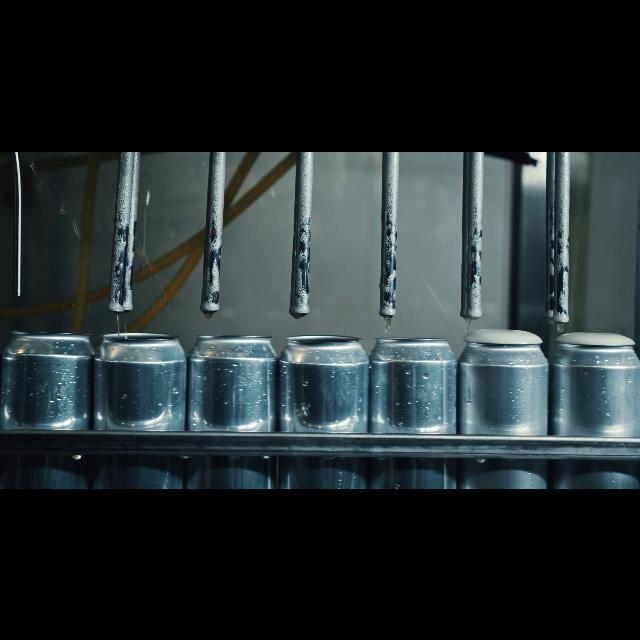empty: (2, 326, 94, 488), (99, 324, 185, 488), (191, 332, 277, 488), (372, 332, 458, 488), (284, 328, 366, 488)
full: (552, 322, 640, 488), (464, 320, 546, 488)
